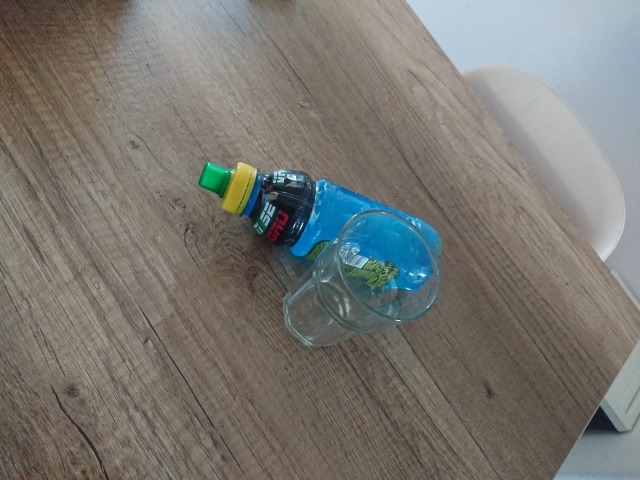Vindi Iso Sport Forest Strawberries 500mL: (196, 159, 446, 298)
